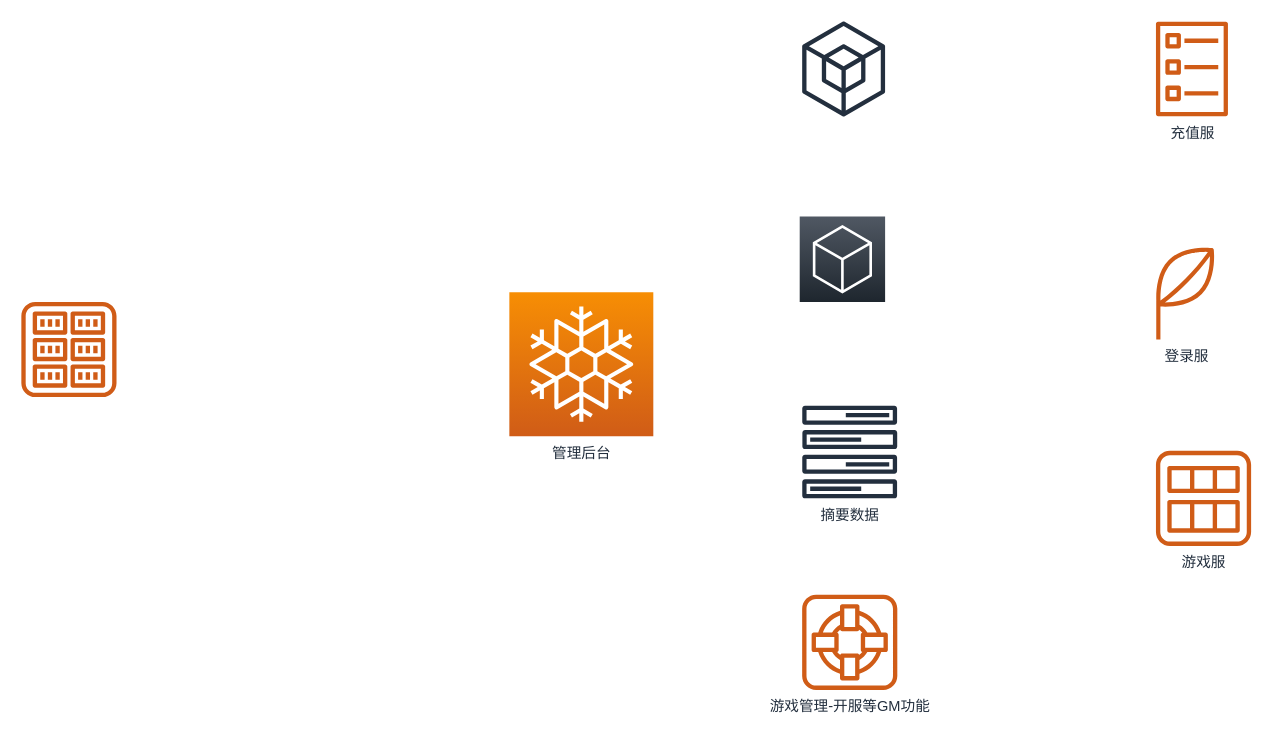
Image size: 1271x736. Some labels were removed from this diagram. Each missing label, with the box of its shape:
充值数据: (802, 21, 884, 116)
前端页面: (21, 301, 116, 396)
日志数据: (798, 215, 885, 302)
